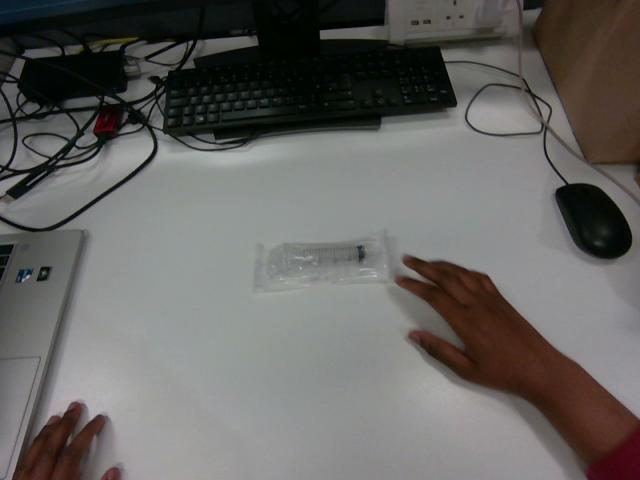syringe: (254, 231, 389, 292)
